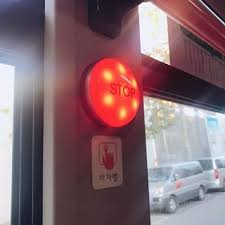bell: (79, 53, 145, 135)
